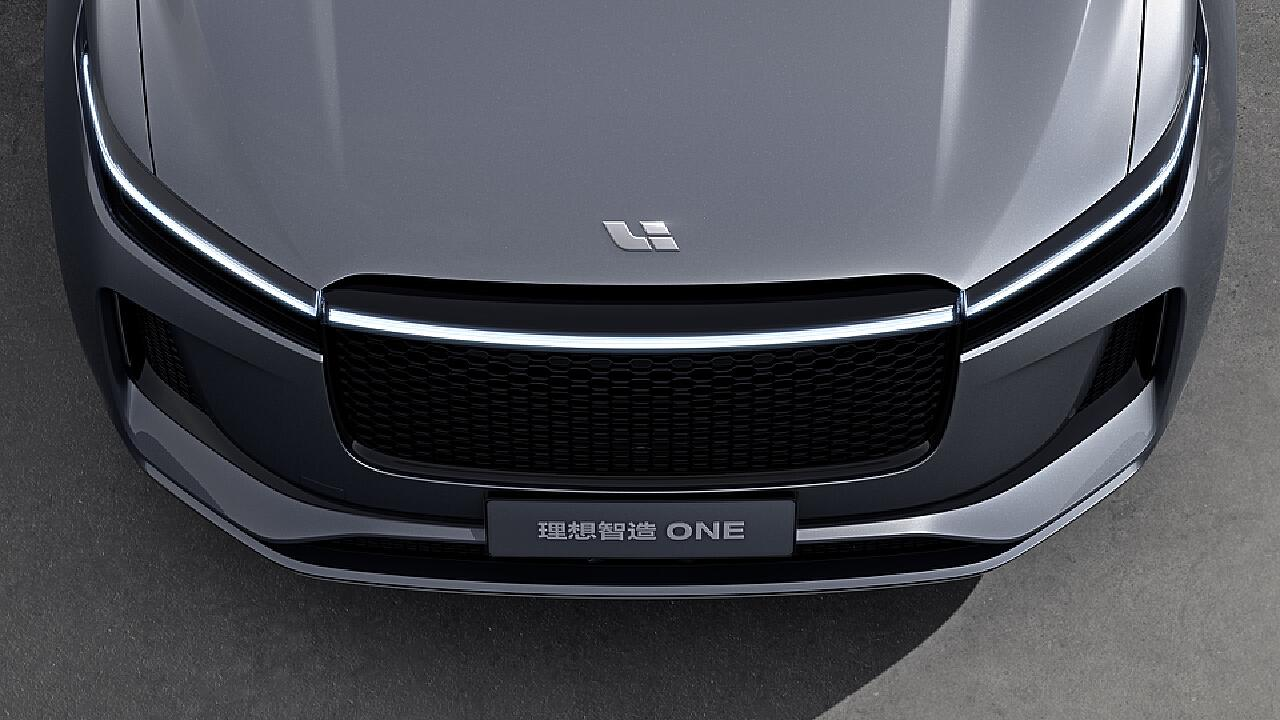Li Auto: (600, 220, 681, 252)
